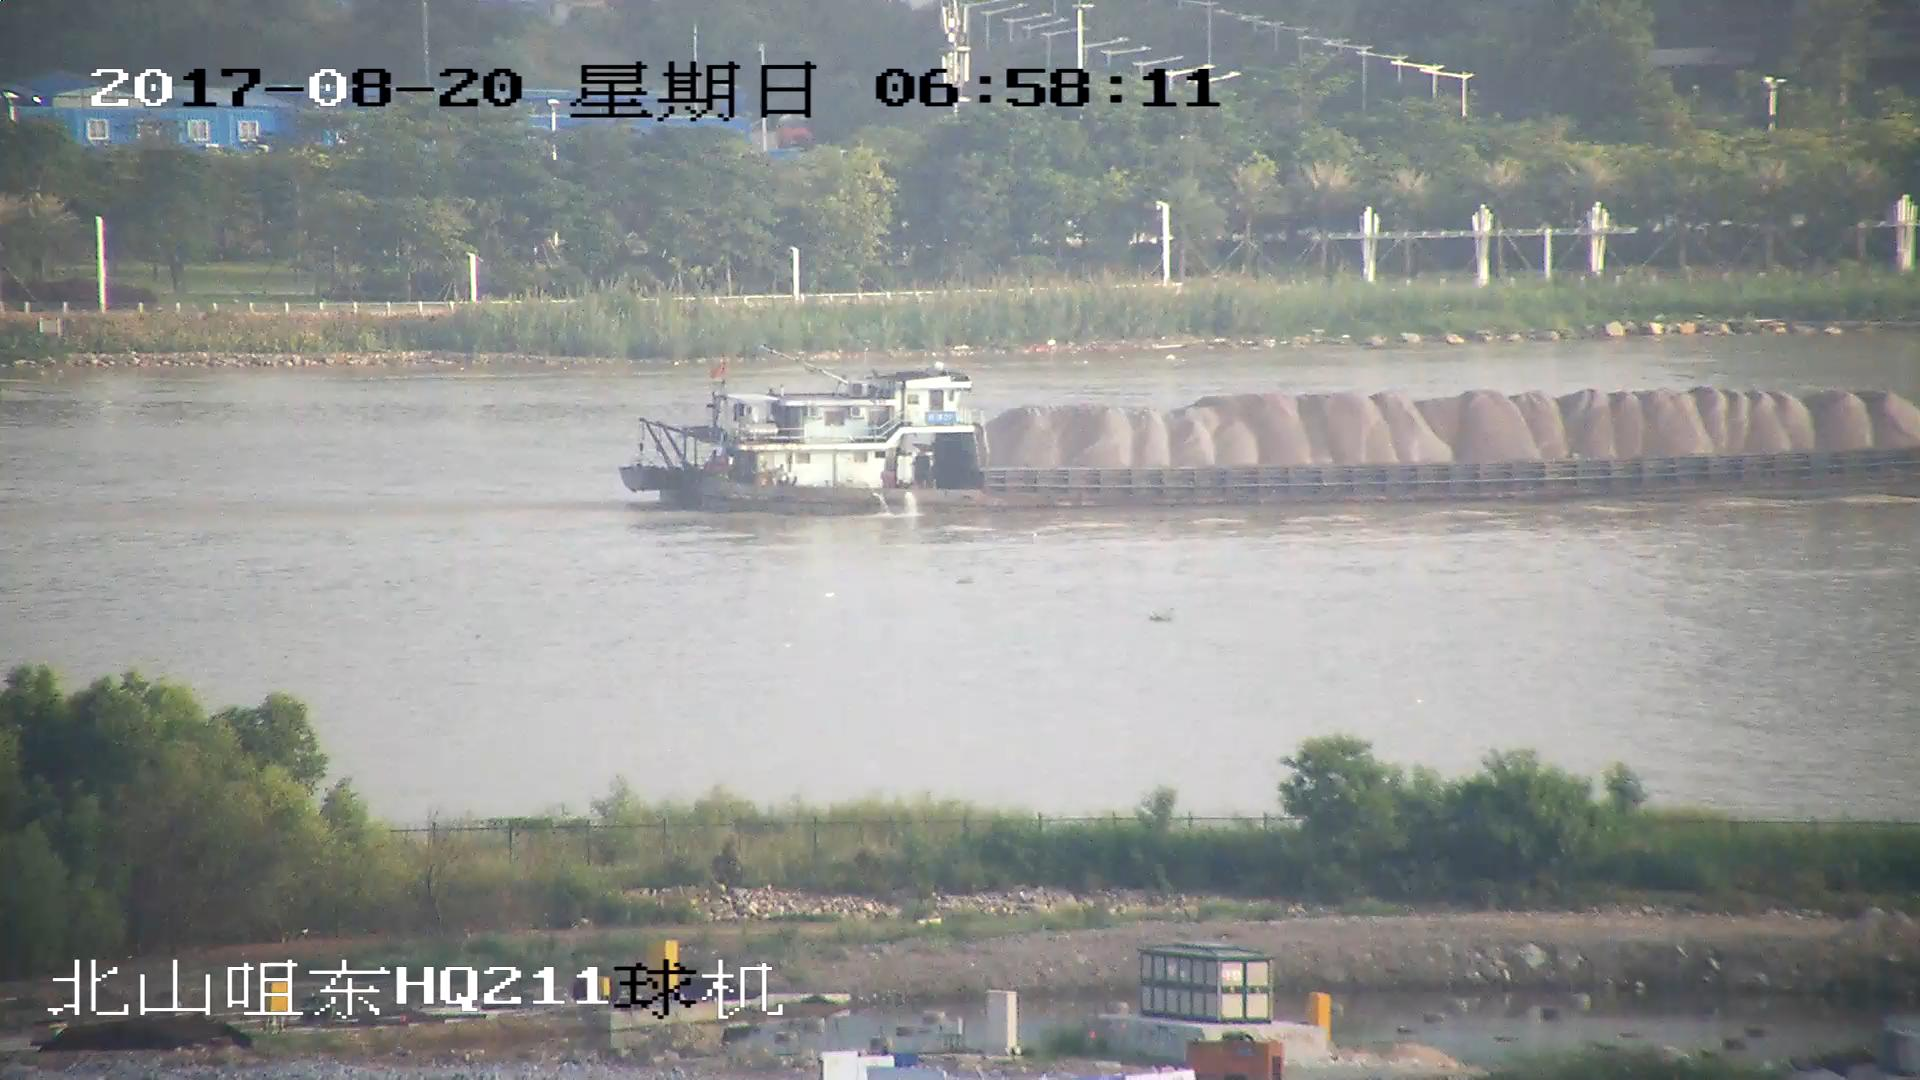ore carrier: (621, 345, 1920, 522)
